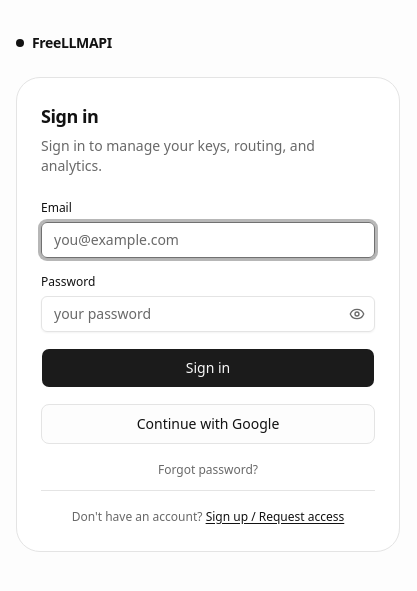
Test: explains a blocked Google sign-in destination in English
What coordinates should you click on to do the following:
click the button "Continue with Google"
I would click on:
 (208, 424)
Its box is top-left (41, 404), bottom-right (375, 444).
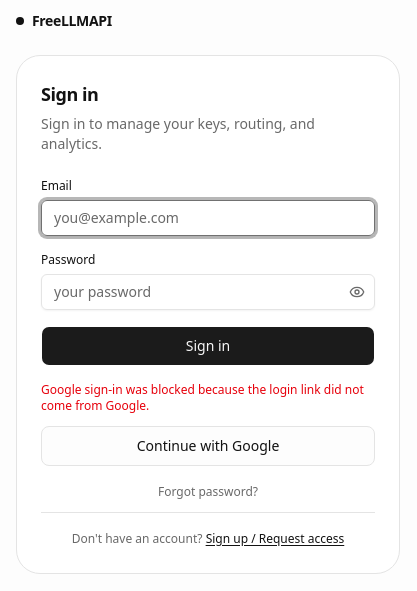
Now the message "Google sign-in was blocked because the login link did not come from Google." is shown, box top-left (41, 382), bottom-right (375, 414)
